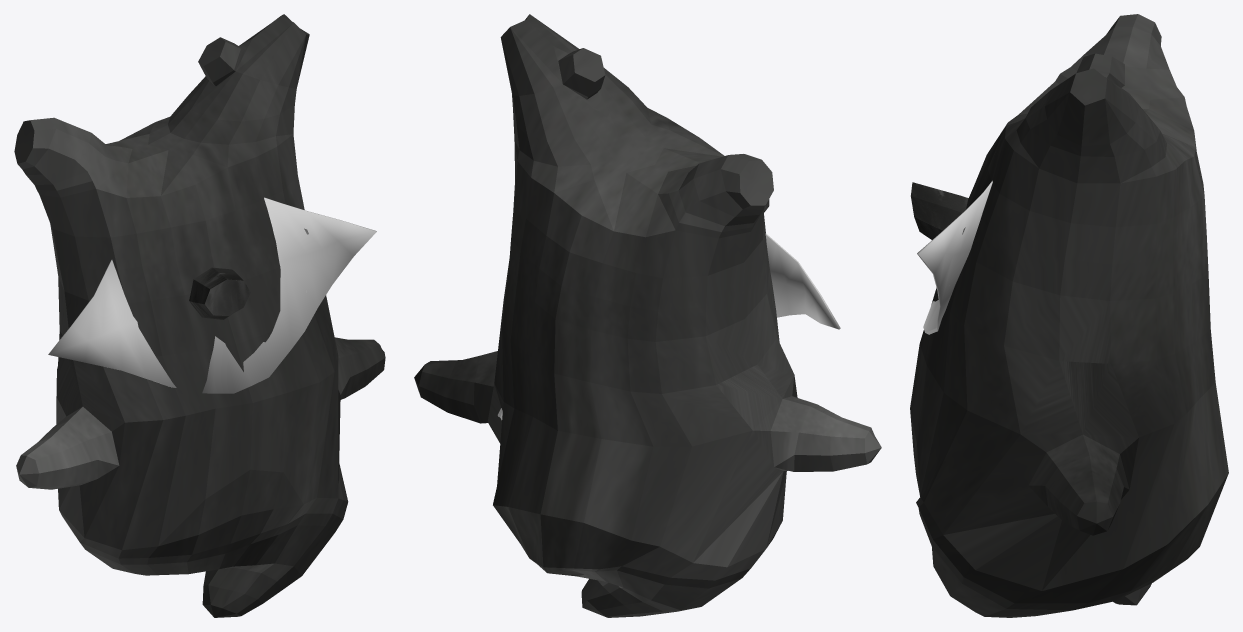
The model's file is frame_0004.obj.
3 renders of one model, left to right at view 1: azimuth 30°, elevation 25°; view 2: azimuth 150°, elevation 25°; view 3: azimuth 270°, elevation 25°, orthographic. The views are drawn at different scales.
Visible parts, largest first — view 1: korok, leaf, nose; view 2: korok, leaf; view 3: korok, leaf, nose.
Boxes of the visible parts, x1,y1,x2,y2 form: korok: [14, 14, 385, 617]; leaf: [48, 197, 376, 393]; nose: [189, 267, 250, 319]; korok: [414, 14, 881, 617]; leaf: [765, 233, 840, 329]; korok: [910, 14, 1228, 617]; leaf: [917, 180, 992, 334]; nose: [910, 182, 968, 239].
Bounding box in the file's own units: 1.79 × 2.27 × 1.12.
